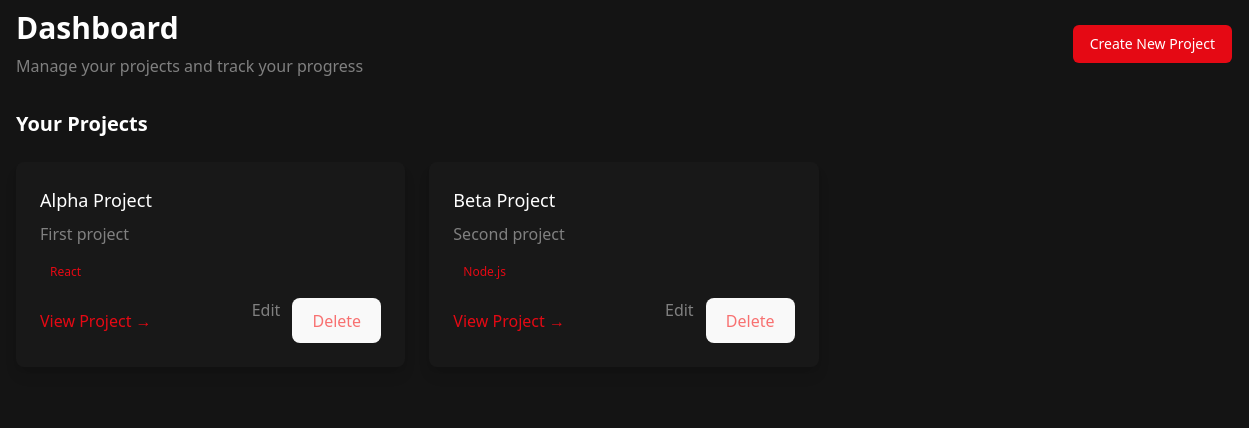
Dashboard › shows error when delete fails
Expected: the heading "Alpha Project" is shown, [40,188,152,212]
Step 1. Click the button "Delete" below "React" → [337, 321], box [292,298,381,343]
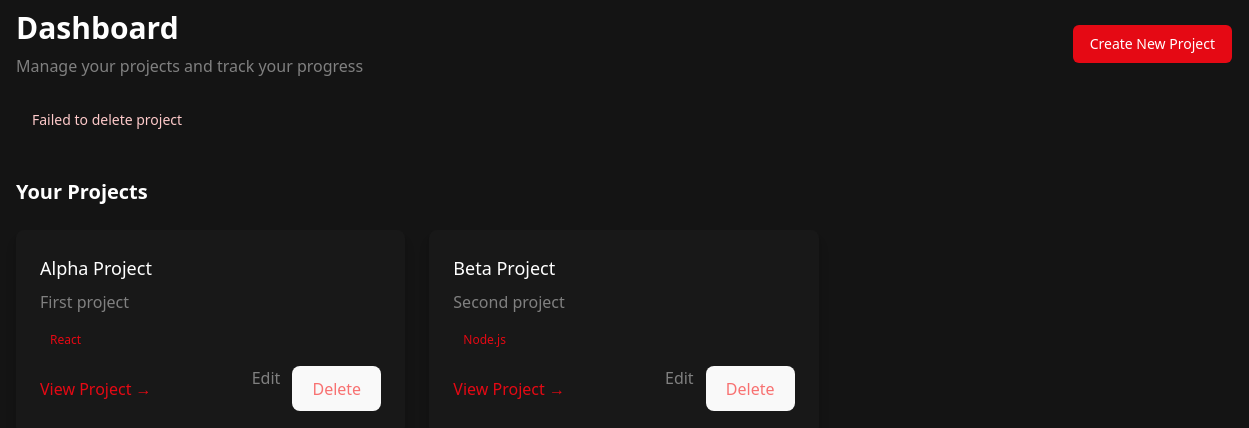
Expected: the text "Failed to delete project" is shown, [32,110,182,129]
